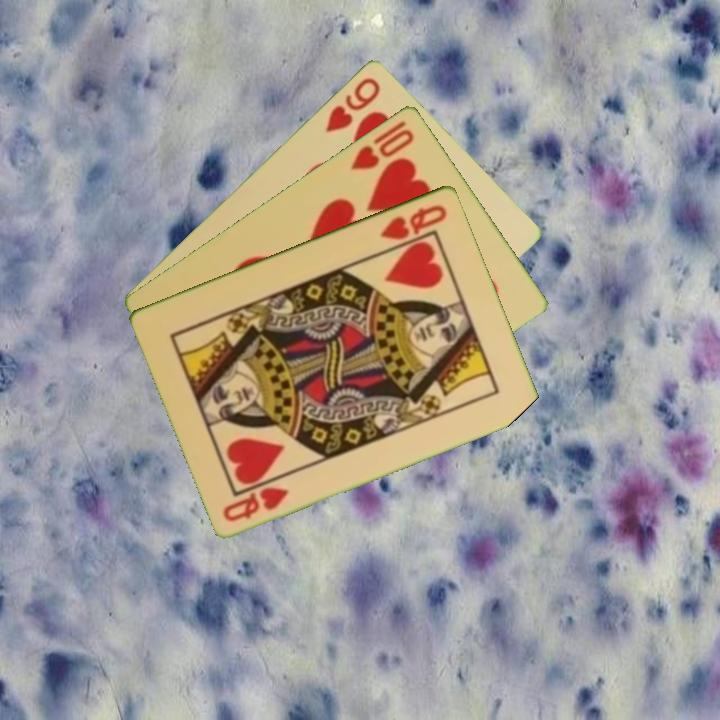10h: (347, 124, 417, 173)
9h: (322, 73, 384, 135)
Qh: (377, 200, 450, 243), (219, 482, 292, 524)
